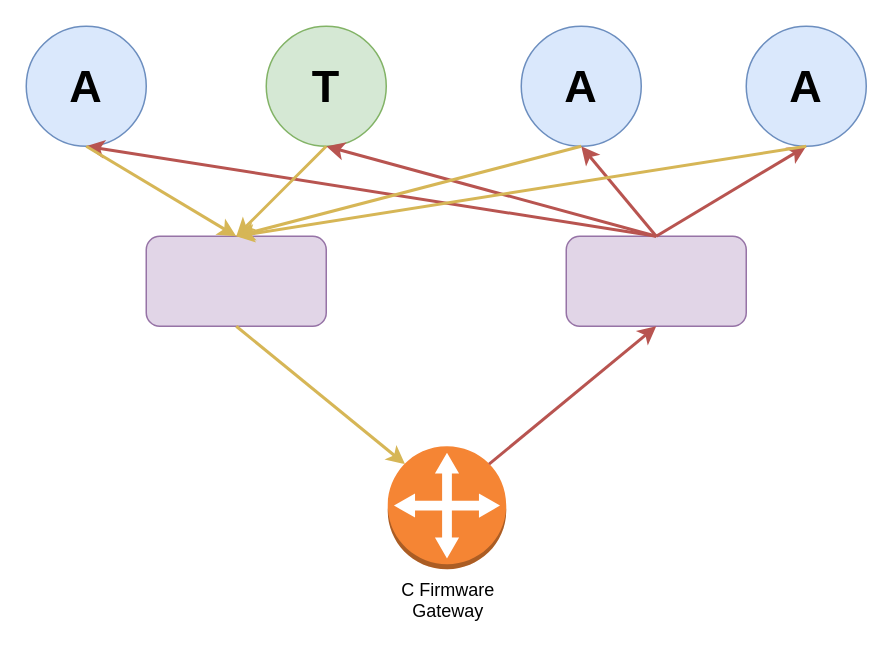
The diagram is 893 pixels wide and 650 high, and some of its shapes have lost their labels. The centre of each missing label's shape, as x and y in pixels:
CMD: the point at 655,280
EVT: the point at 235,280
